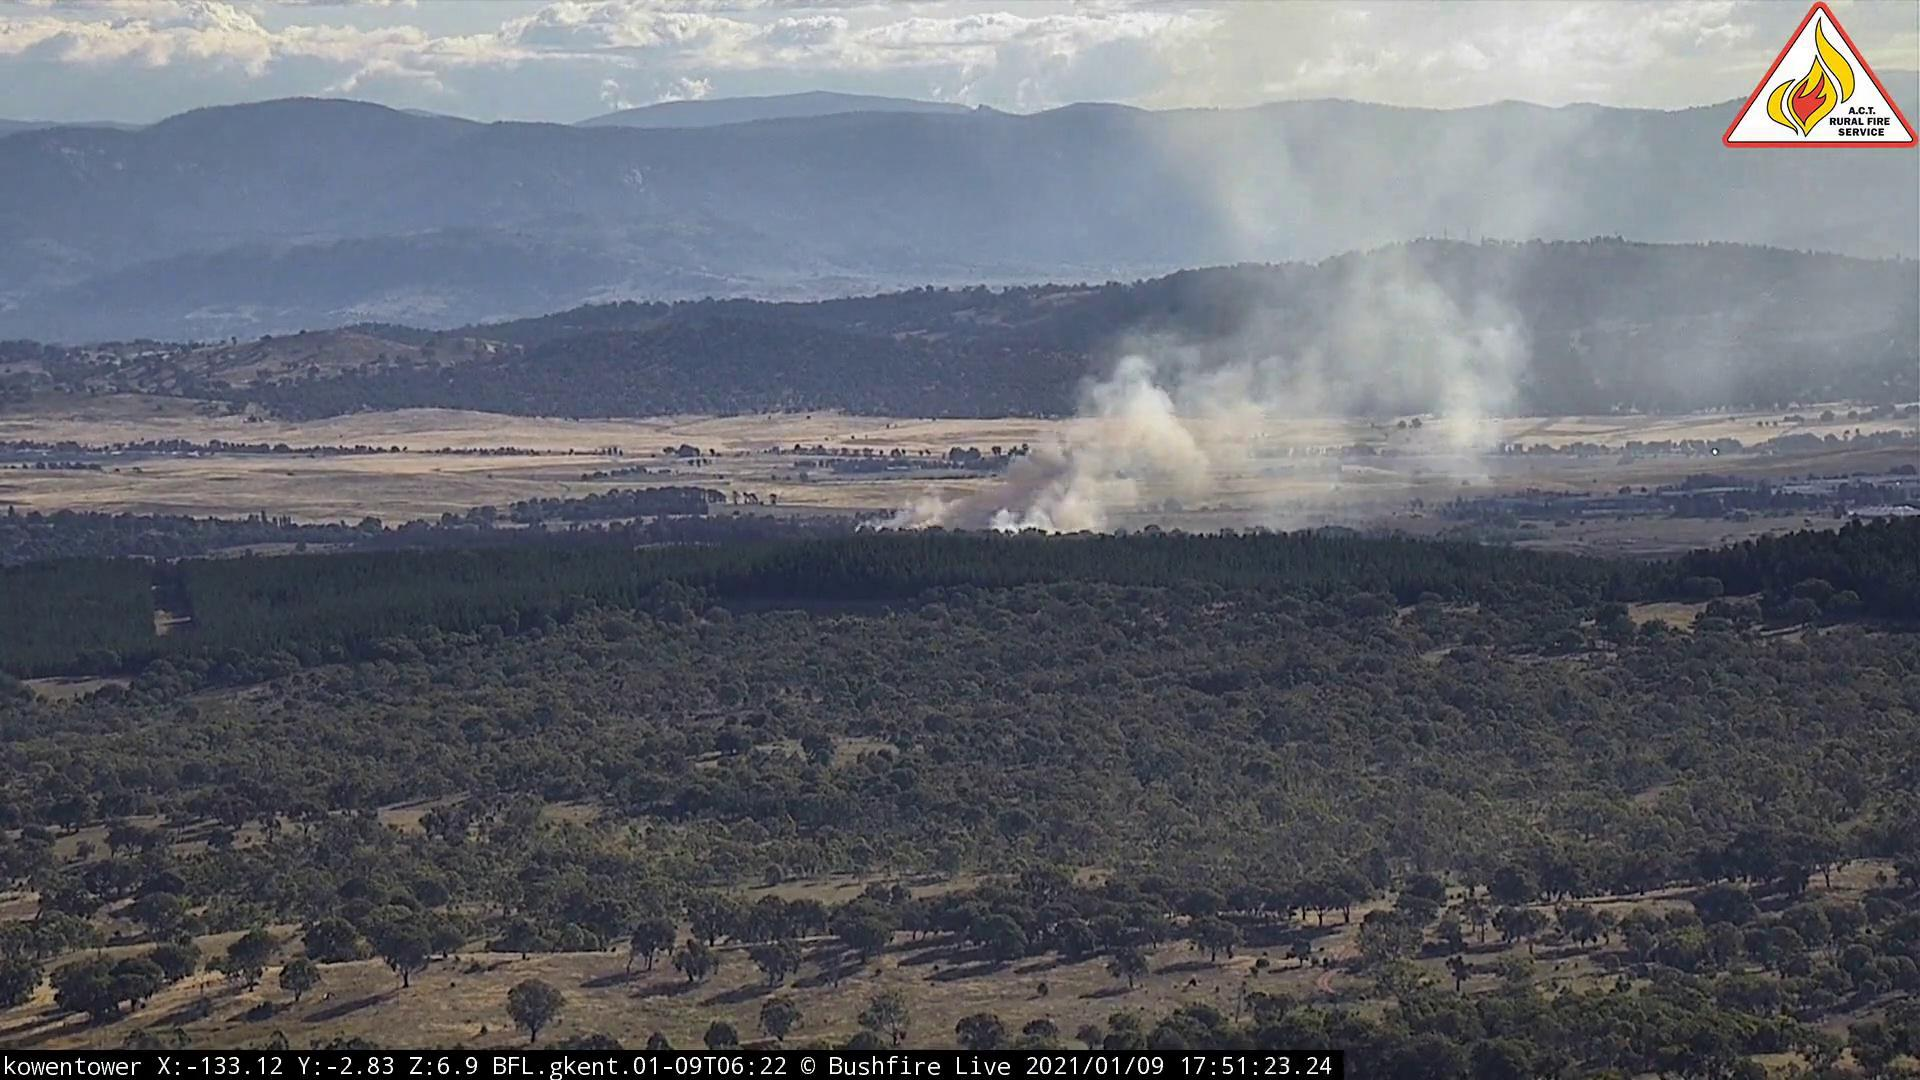instance_salient_object: (868, 3, 1720, 542)
